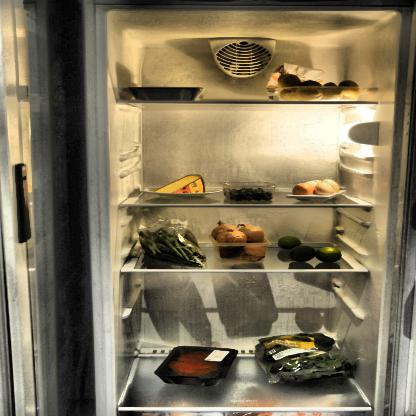beef: (162, 346, 228, 384)
blueberries: (224, 185, 273, 200)
cheese: (154, 173, 209, 197)
eggs: (294, 178, 342, 202)
green_beans: (130, 221, 209, 267)
lime: (280, 235, 343, 265)
onion: (210, 222, 272, 266)
potato: (278, 73, 361, 102)
spinach: (253, 331, 357, 386)
